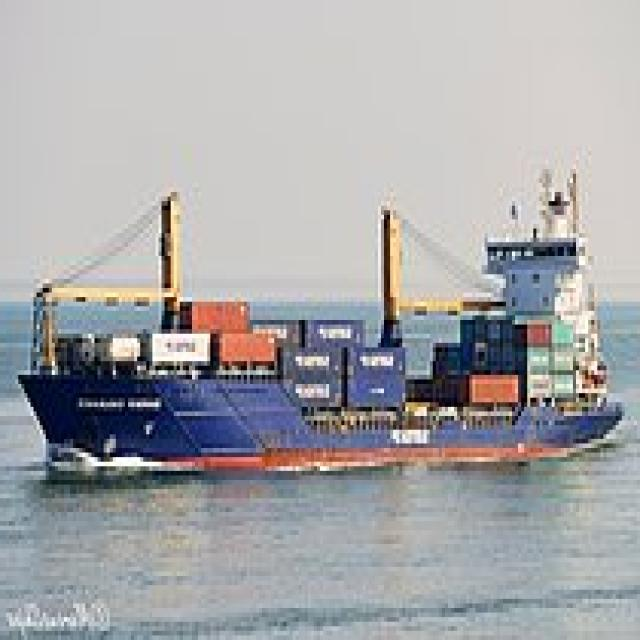Cargo: (15, 155, 631, 471)
